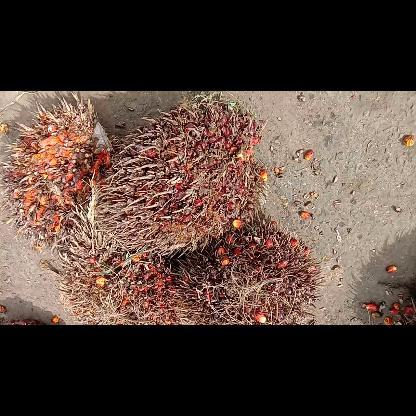Terlalu masak: (94, 91, 266, 257), (0, 91, 114, 251), (173, 220, 323, 324), (58, 204, 176, 324)
